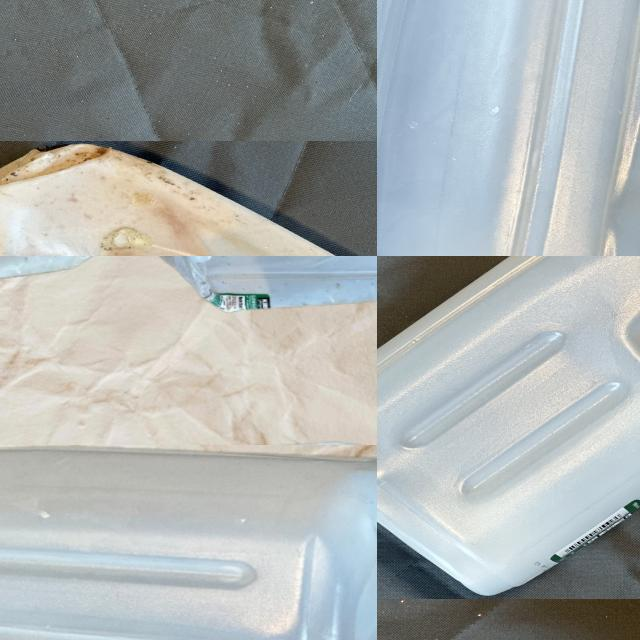milk-jug: (377, 256, 640, 599), (0, 445, 377, 640), (377, 0, 640, 256), (0, 141, 377, 256), (143, 256, 377, 314)
